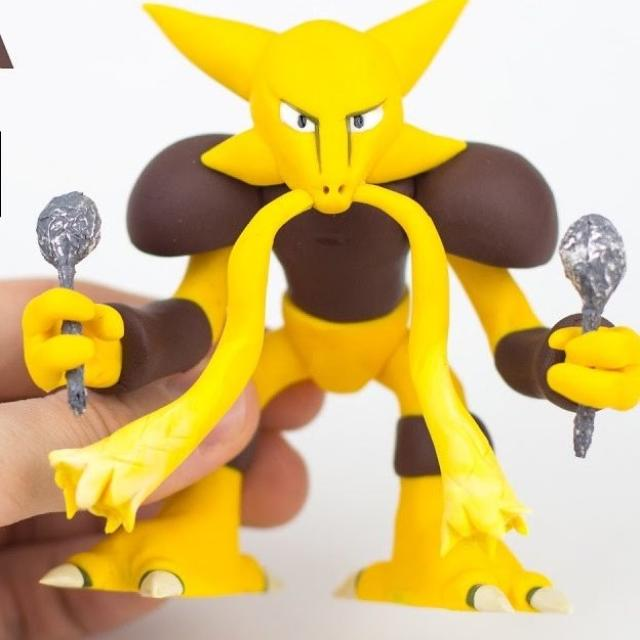Alakazam: (99, 0, 542, 597)
